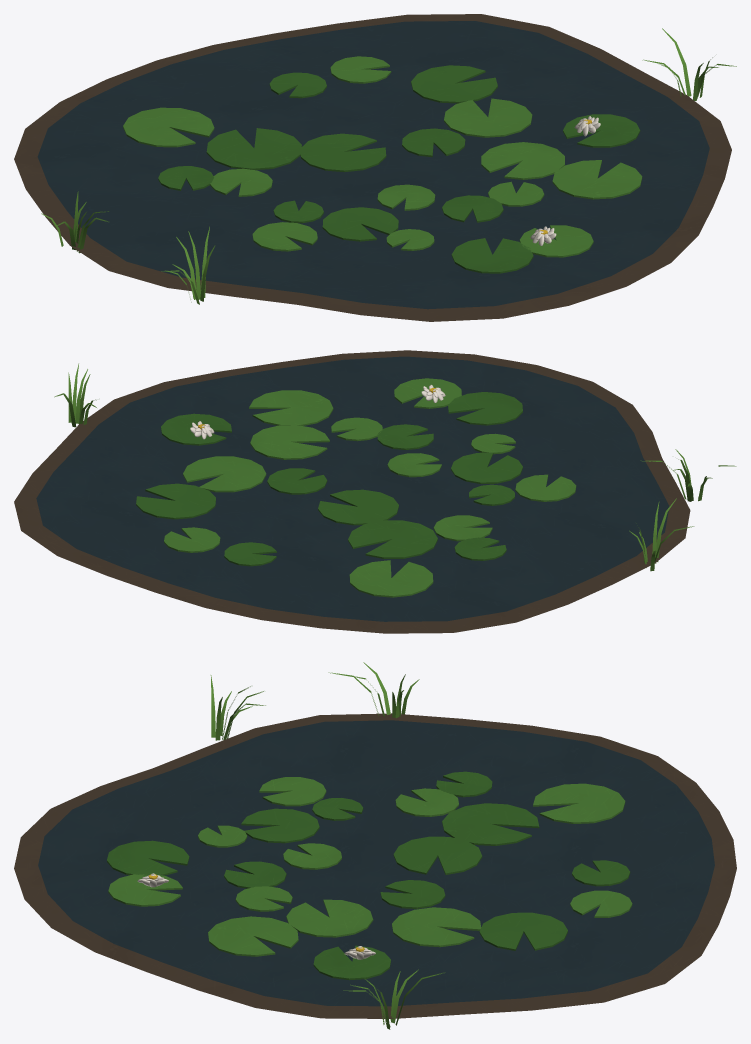
The model's file is lily_pad_cluster.glb.
3 views of the same model, one above another, from view 1: azimuth 30°, elevation 25°; view 2: azimuth 150°, elevation 25°; view 3: azimuth 270°, elevation 25° (orthographic). The views are drawn at different scales.
Visible parts, largest first — view 1: lily_pad_cluster; view 2: lily_pad_cluster; view 3: lily_pad_cluster.
Boxes of the visible parts, bbox=[...] form: lily_pad_cluster: bbox=[14, 14, 736, 321]; lily_pad_cluster: bbox=[14, 350, 736, 633]; lily_pad_cluster: bbox=[14, 662, 736, 1029].
Bounding box in the file's own units: 5.11 × 0.4114 × 4.7.
Materials: 7 (7 with a texture image).
